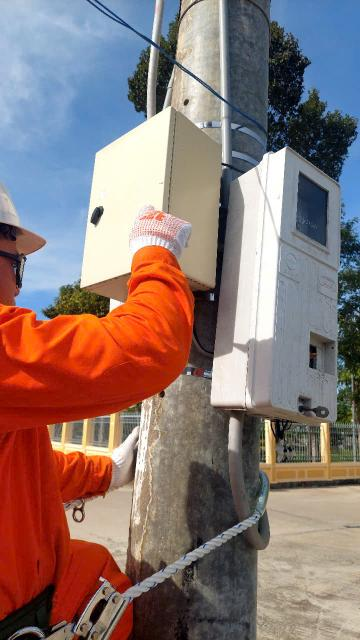gloves: (116, 201, 212, 275), (90, 414, 158, 490)
helmet: (0, 169, 56, 266)
